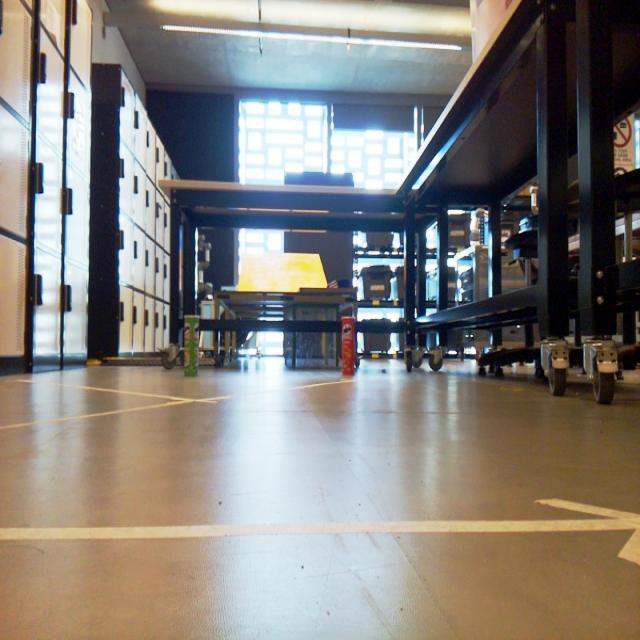greenpringles: (180, 310, 206, 376)
redpringles: (336, 311, 360, 379)
